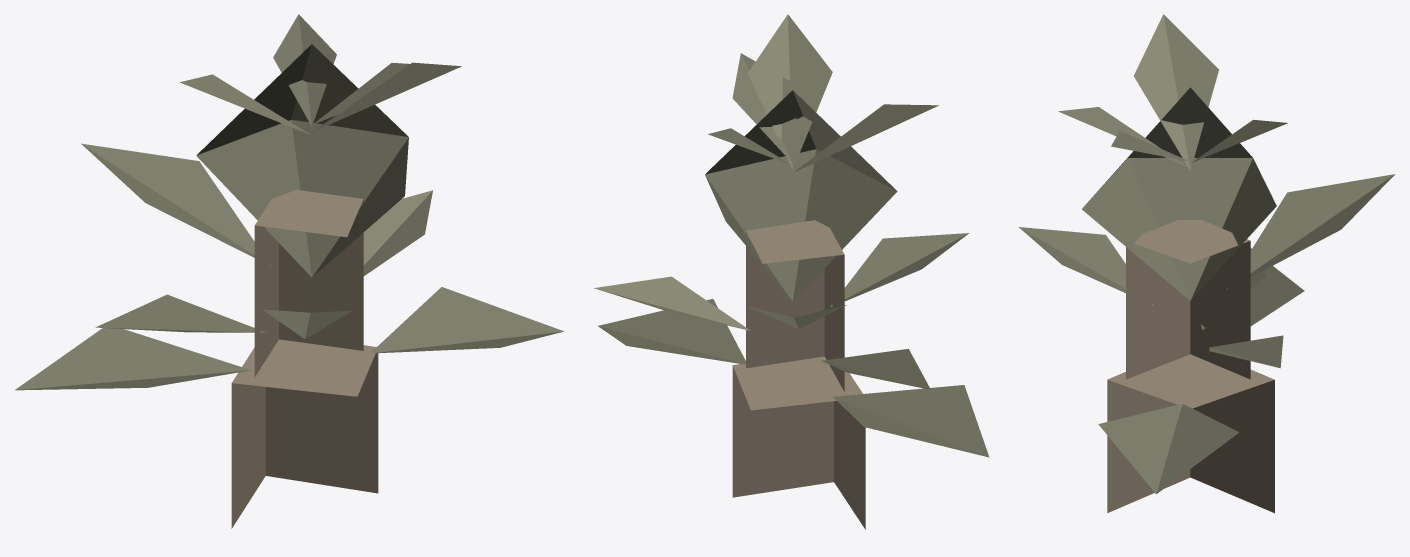
The model's file is cao.jue@seedling__winter.glb.
3 views of the same model, side by side, from view 1: azimuth 30°, elevation 25°; view 2: azimuth 150°, elevation 25°; view 3: azimuth 270°, elevation 25° (orthographic). The views are drawn at different scales.
Visible parts, largest first — view 1: cao.jue@seedling__winter; view 2: cao.jue@seedling__winter; view 3: cao.jue@seedling__winter.
Boxes of the visible parts, left/top/right/bottom form: cao.jue@seedling__winter: left=15, top=14, right=564, bottom=528; cao.jue@seedling__winter: left=594, top=14, right=989, bottom=529; cao.jue@seedling__winter: left=1019, top=14, right=1394, bottom=513.
Size of the model in its own units: 0.1044 by 0.097 by 0.0759.
